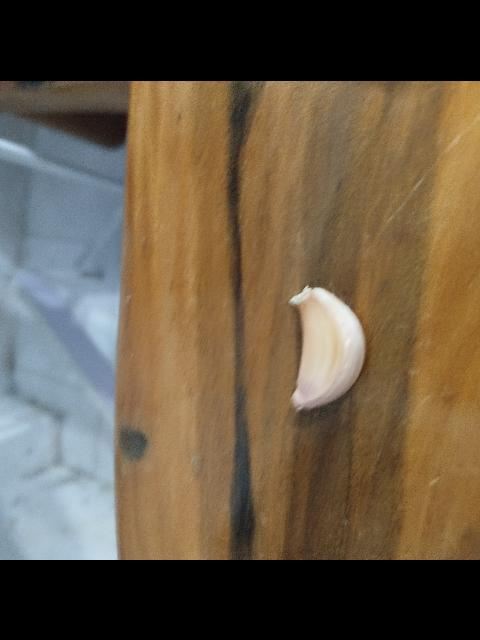garlic: (288, 284, 366, 410)
